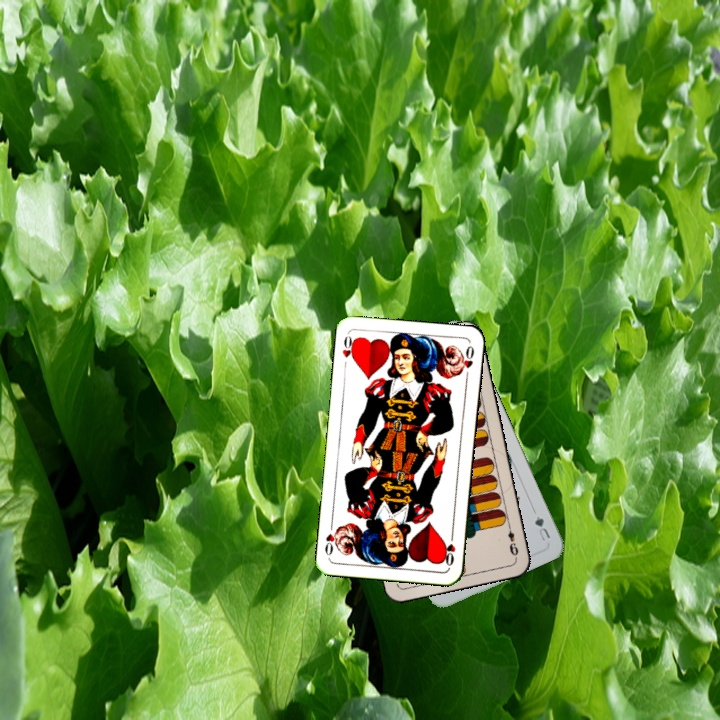E9: (504, 520, 521, 558)
GU: (531, 512, 553, 544)
HO: (440, 529, 458, 569), (338, 332, 358, 363)
